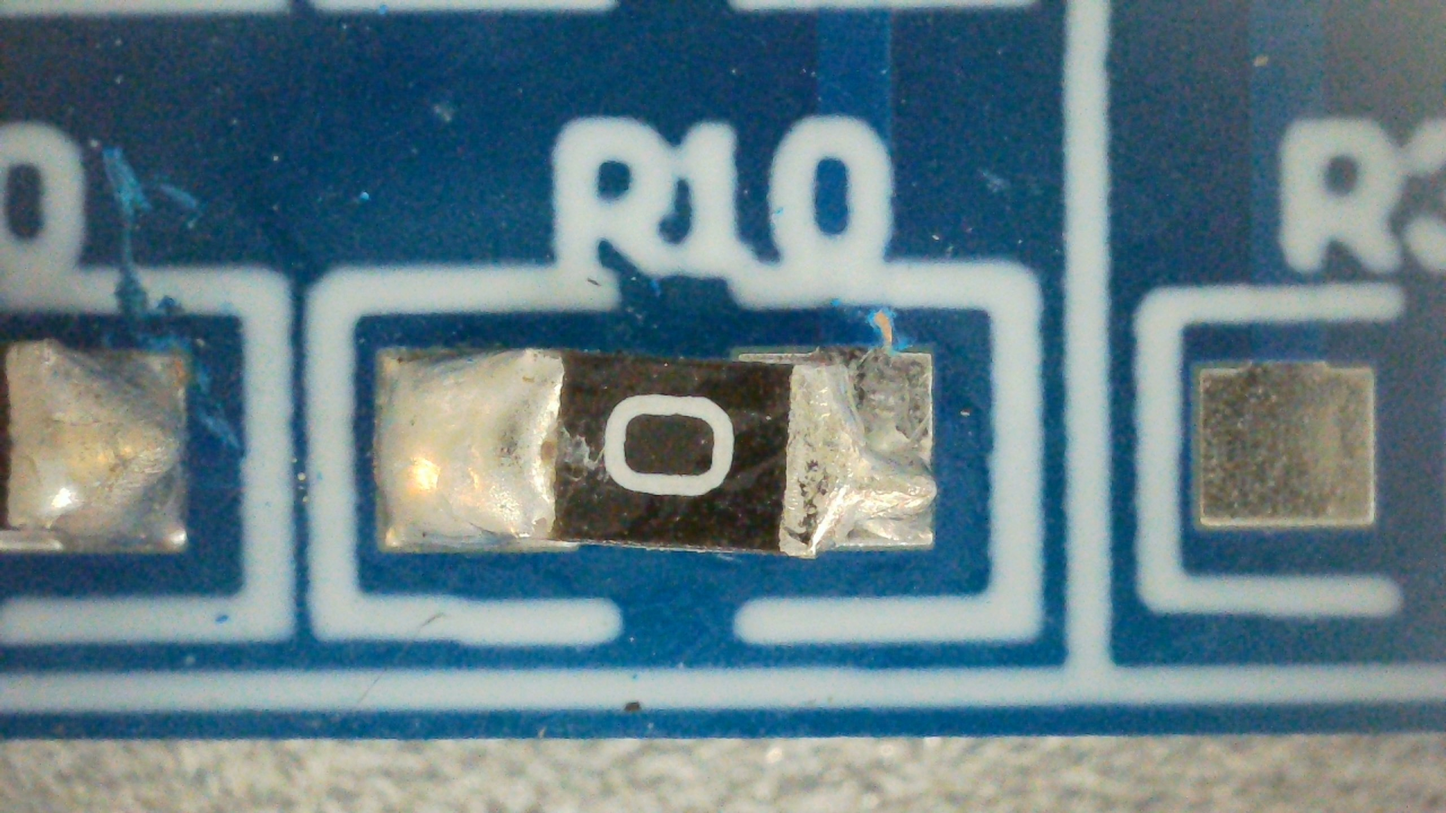NG: (377, 346, 937, 561)
